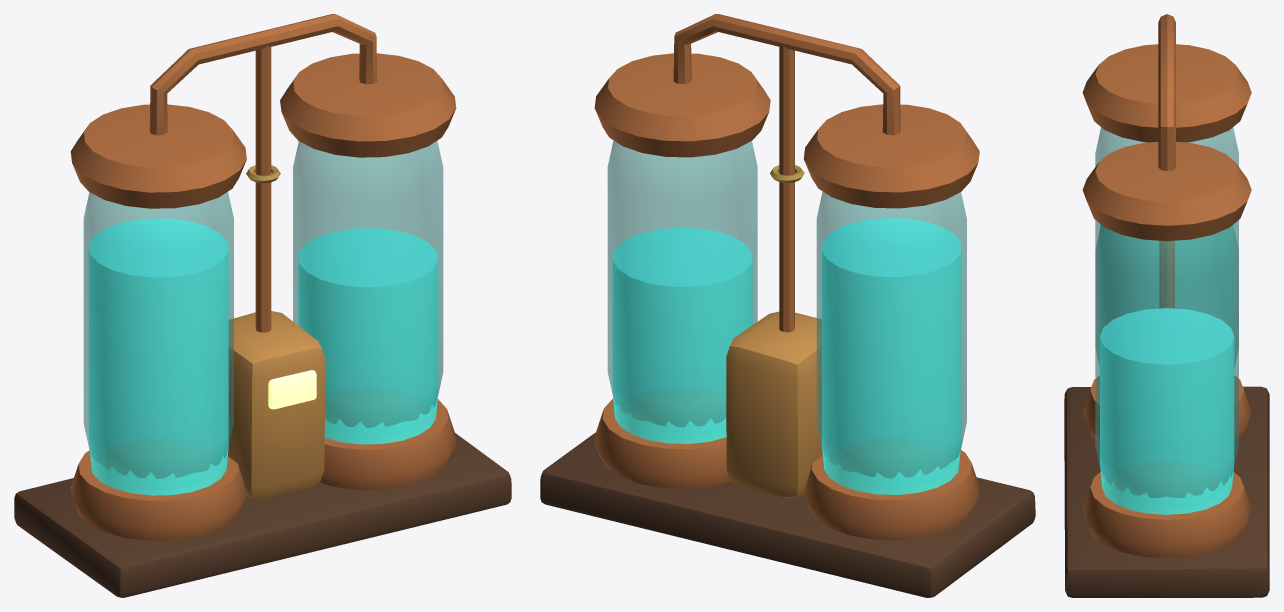
The model's file is deco_fluid_tank_twin.fbx.
3 renders of one model, left to right at view 1: azimuth 30°, elevation 25°; view 2: azimuth 150°, elevation 25°; view 3: azimuth 270°, elevation 25°, orthographic. The views are drawn at different scales.
Visible parts, largest first — view 1: FluidTank_Twin_GlassL, FluidTank_Twin_GlassR, FluidTank_Twin_LiquidL, FluidTank_Twin_Base, FluidTank_Twin_LiquidR, FluidTank_Twin_CapsL, FluidTank_Twin_CapsR, FluidTank_Twin_Pump, FluidTank_Twin_Pipes; view 2: FluidTank_Twin_GlassL, FluidTank_Twin_GlassR, FluidTank_Twin_LiquidL, FluidTank_Twin_Base, FluidTank_Twin_LiquidR, FluidTank_Twin_CapsL, FluidTank_Twin_CapsR, FluidTank_Twin_Pump, FluidTank_Twin_Pipes; view 3: FluidTank_Twin_GlassR, FluidTank_Twin_LiquidR, FluidTank_Twin_CapsR, FluidTank_Twin_Base, FluidTank_Twin_CapsL, FluidTank_Twin_LiquidL, FluidTank_Twin_Pipes, FluidTank_Twin_GlassL.
Boxes of the visible parts, left/top/right/bottom form: FluidTank_Twin_GlassL: left=83, top=192, right=233, bottom=478; FluidTank_Twin_GlassR: left=293, top=141, right=443, bottom=427; FluidTank_Twin_LiquidL: left=88, top=218, right=228, bottom=495; FluidTank_Twin_Base: left=14, top=433, right=511, bottom=597; FluidTank_Twin_LiquidR: left=298, top=228, right=438, bottom=444; FluidTank_Twin_CapsL: left=70, top=104, right=246, bottom=540; FluidTank_Twin_CapsR: left=280, top=53, right=456, bottom=489; FluidTank_Twin_Pump: left=228, top=311, right=325, bottom=498; FluidTank_Twin_Pipes: left=149, top=14, right=377, bottom=332; FluidTank_Twin_GlassL: left=816, top=192, right=966, bottom=478; FluidTank_Twin_GlassR: left=607, top=141, right=757, bottom=427; FluidTank_Twin_LiquidL: left=822, top=218, right=961, bottom=494; FluidTank_Twin_Base: left=540, top=432, right=1035, bottom=597; FluidTank_Twin_LiquidR: left=612, top=228, right=752, bottom=443; FluidTank_Twin_CapsL: left=803, top=104, right=979, bottom=540; FluidTank_Twin_CapsR: left=594, top=53, right=770, bottom=488; FluidTank_Twin_Pump: left=726, top=311, right=822, bottom=497; FluidTank_Twin_Pipes: left=673, top=14, right=900, bottom=332; FluidTank_Twin_GlassR: left=1095, top=225, right=1238, bottom=497; FluidTank_Twin_LiquidR: left=1100, top=308, right=1234, bottom=514; FluidTank_Twin_CapsR: left=1082, top=141, right=1251, bottom=557; FluidTank_Twin_Base: left=1064, top=386, right=1269, bottom=597; FluidTank_Twin_CapsL: left=1082, top=44, right=1251, bottom=443; FluidTank_Twin_LiquidL: left=1100, top=224, right=1234, bottom=333; FluidTank_Twin_Pipes: left=1158, top=14, right=1175, bottom=308; FluidTank_Twin_GlassL: left=1095, top=127, right=1238, bottom=366.
Size of the model in its own units: 170 by 199 by 80.15.
